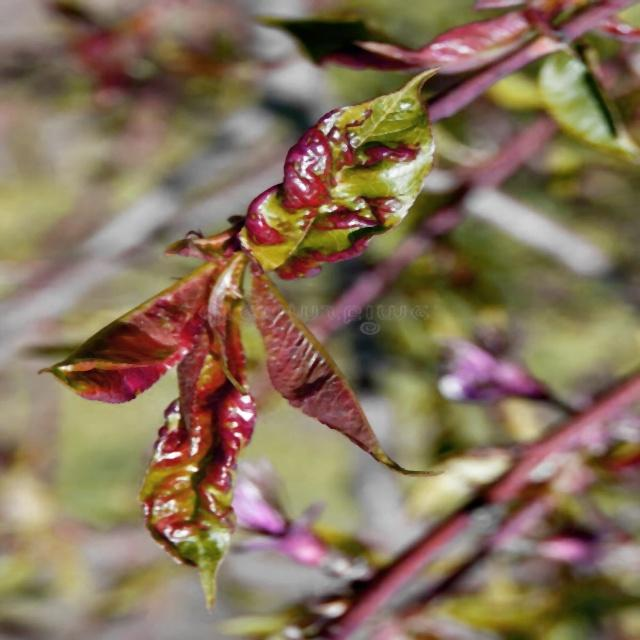leaf_curl: (112, 80, 417, 584)
